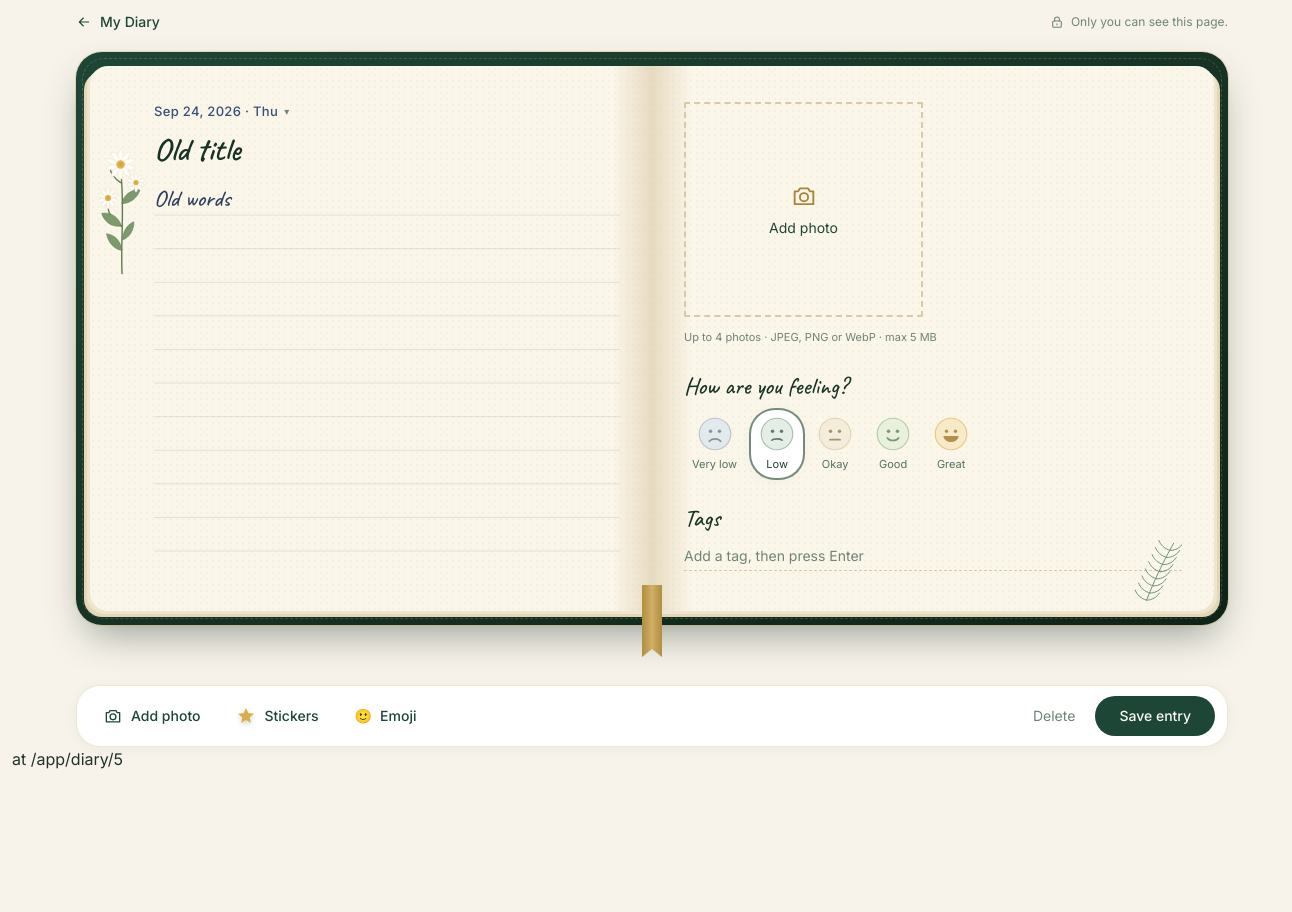
Diary editor › edits an existing entry
Replace the text in the text box named "Dear diary…" with "New words" at (387, 376), box [154,182,620,571]
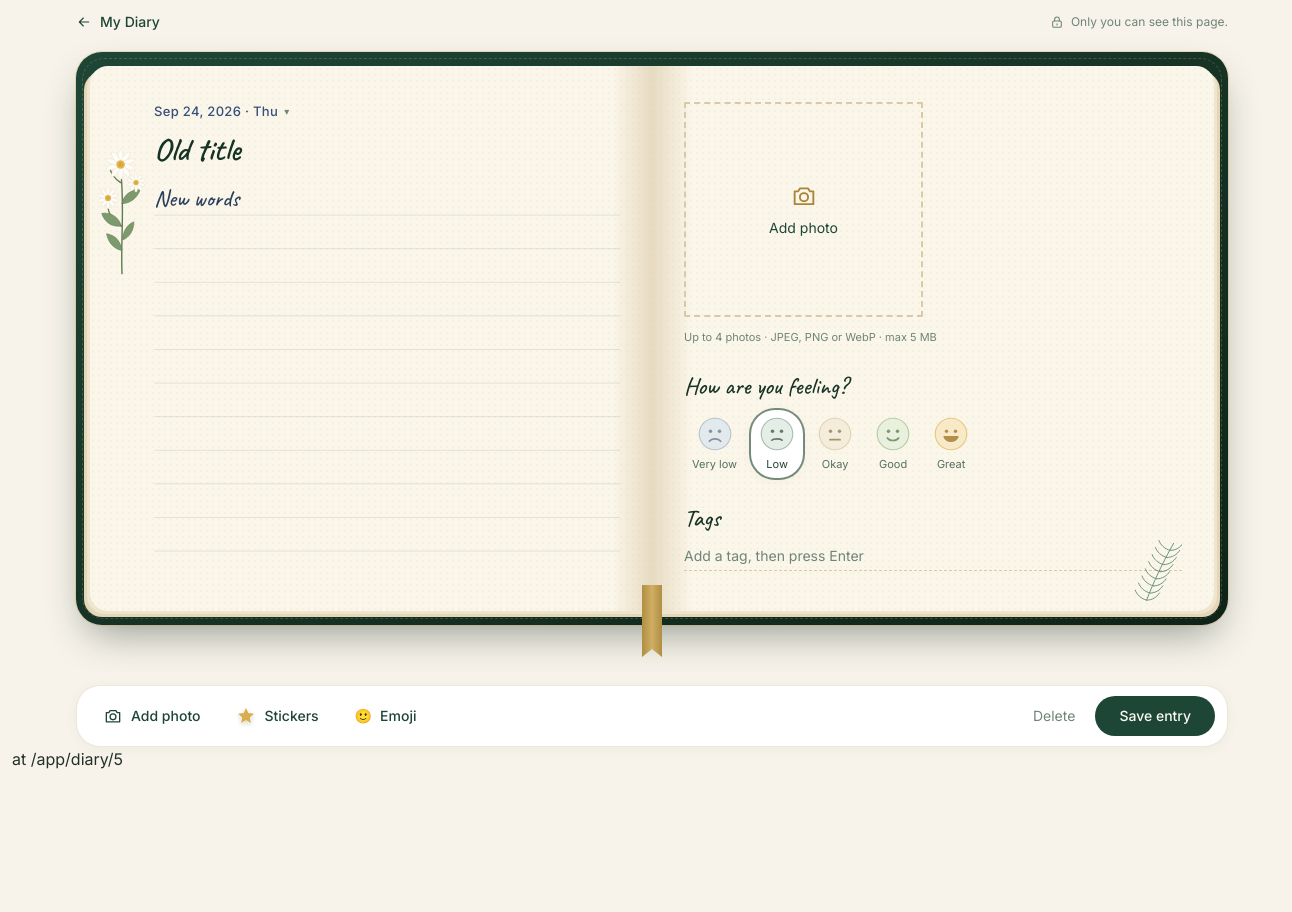
Click the button "Save entry" at (1155, 716), box [1095,696,1215,736]
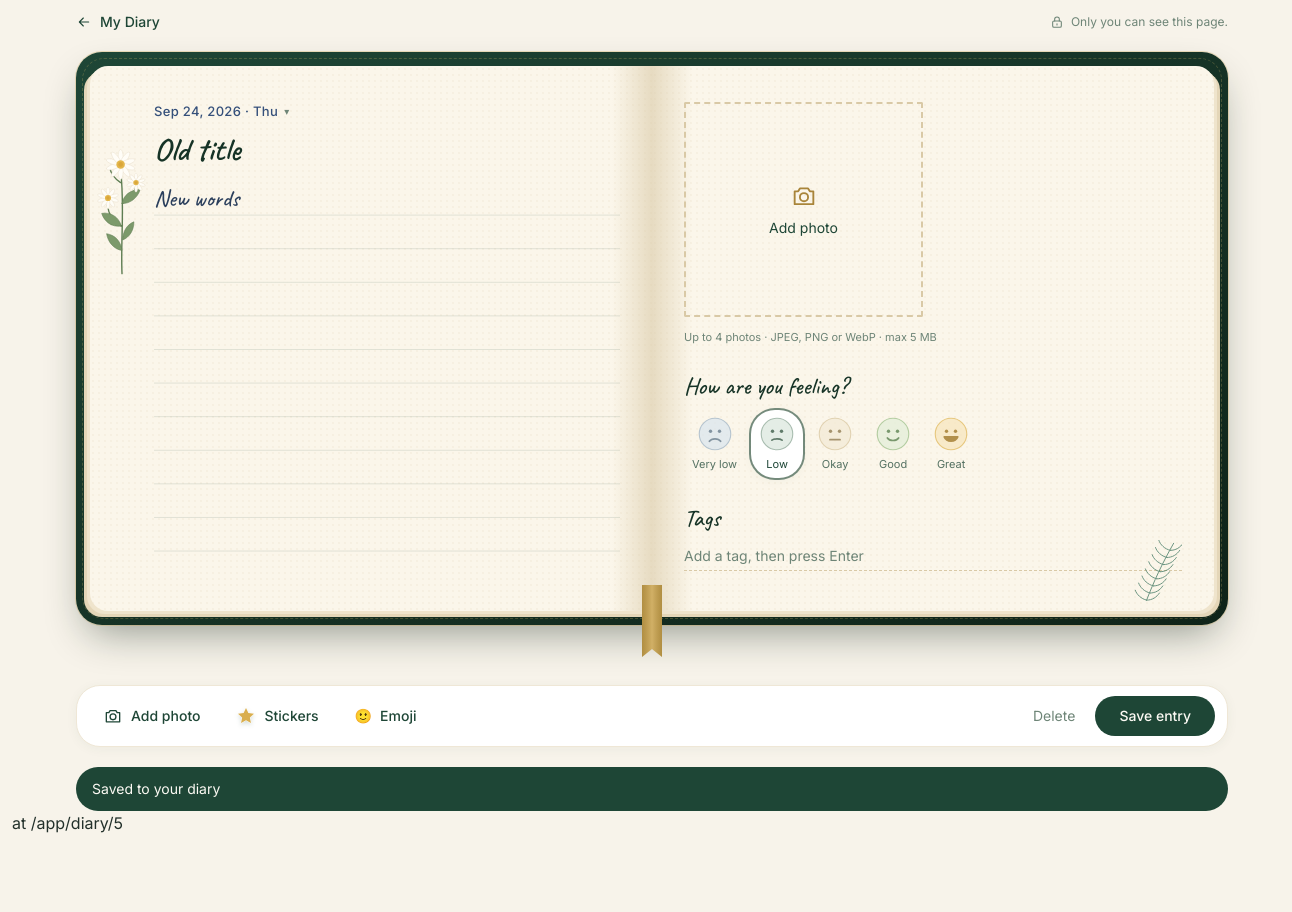
Expected: the text "Saved to your diary" is shown, [76,767,1228,811]
